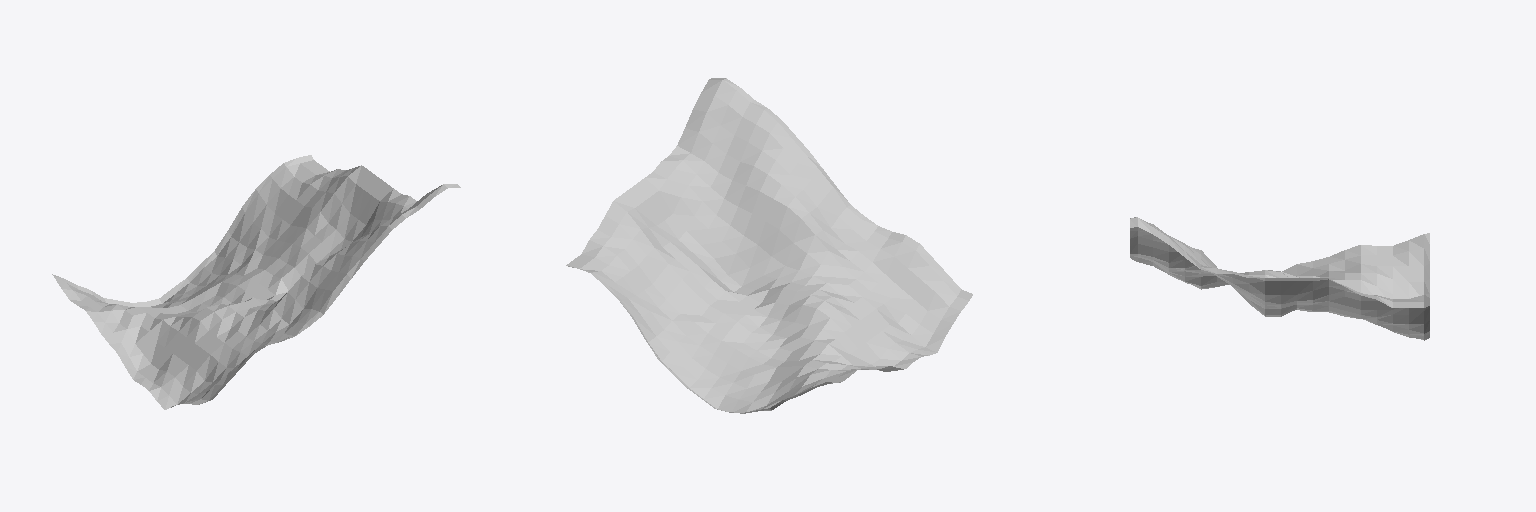
Rendered from terrain_-28_4.obj.
3 renders of one model, left to right at view 1: azimuth 30°, elevation 25°; view 2: azimuth 150°, elevation 25°; view 3: azimuth 270°, elevation 25°, orthographic.
Parts seen in each view (by area): view 1: terrain_-28_4_Plane.022; view 2: terrain_-28_4_Plane.022; view 3: terrain_-28_4_Plane.022.
Boxes of the visible parts, <box> form: terrain_-28_4_Plane.022: <box>52,155,460,409</box>; terrain_-28_4_Plane.022: <box>566,78,972,413</box>; terrain_-28_4_Plane.022: <box>1130,217,1429,340</box>.
Bounding box in the file's own units: 32 × 22.45 × 32.